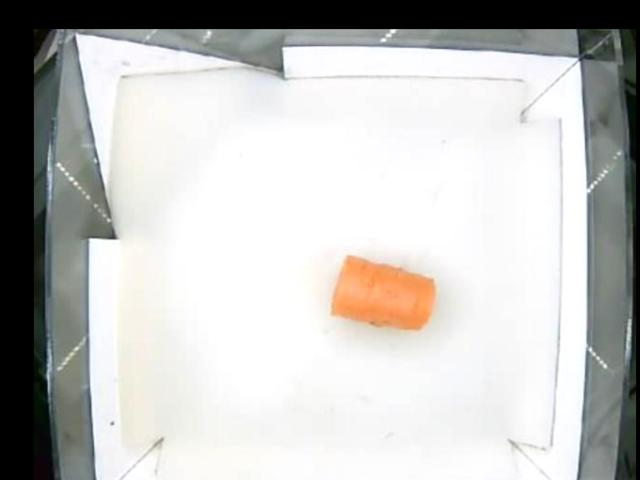Carrot: (331, 255, 437, 331)
